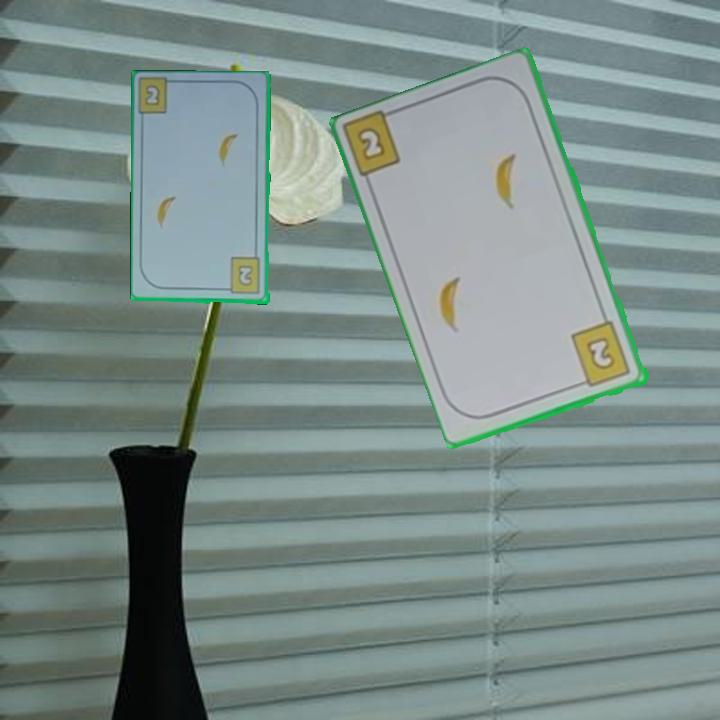2b: (568, 318, 634, 391), (221, 255, 263, 297), (353, 123, 389, 164), (142, 81, 163, 109)
